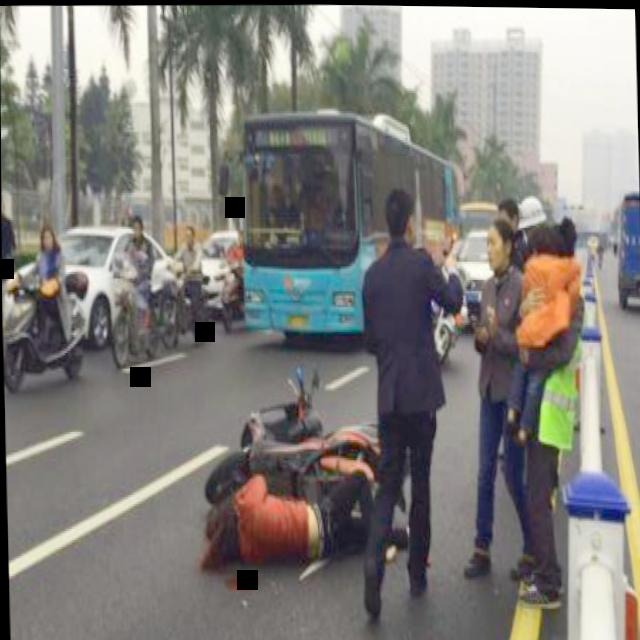Fall-Detected: (189, 441, 389, 588)
